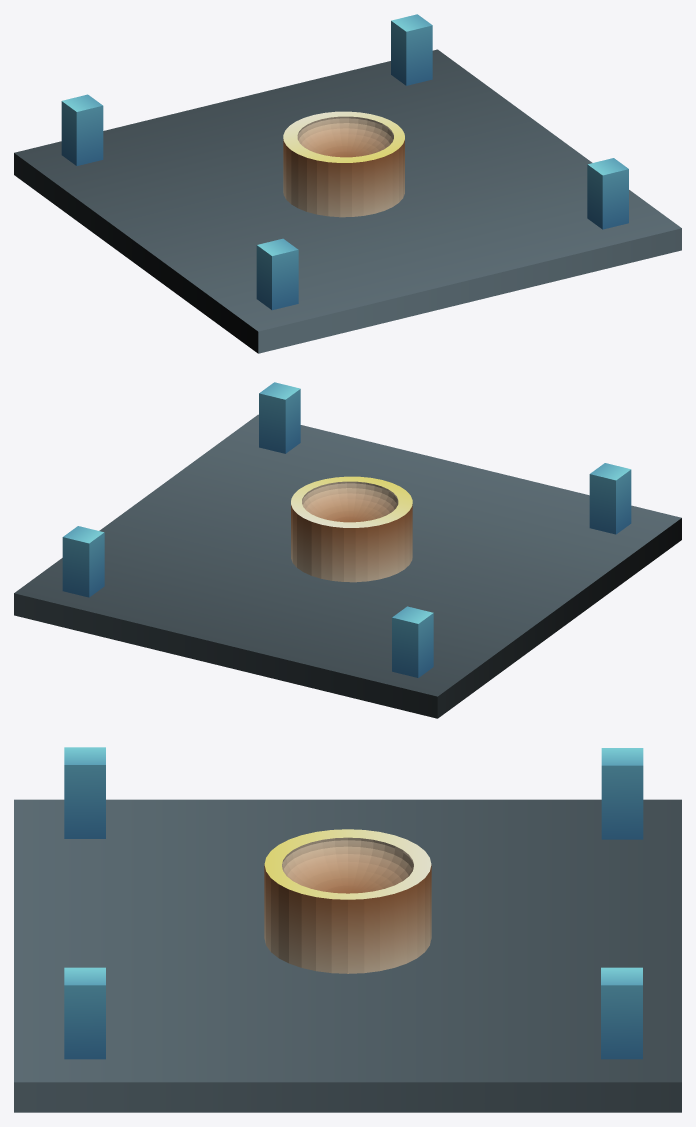
File: CaptureEventMesh.fbx
3 views of the same model, one above another, from view 1: azimuth 30°, elevation 25°; view 2: azimuth 150°, elevation 25°; view 3: azimuth 270°, elevation 25° (orthographic). The views are drawn at different scales.
Parts seen in each view (by area): view 1: Cube, Cylinder, Cube.002, Cube.001, Cube.004, Cube.003; view 2: Cube, Cylinder, Cube.001, Cube.004, Cube.002, Cube.003; view 3: Cube, Cylinder, Cube.002, Cube.003, Cube.004, Cube.001.
Boxes of the visible parts, <box> form: Cube: <box>14,49,681,353</box>; Cylinder: <box>283,111,404,217</box>; Cube.002: <box>61,94,103,165</box>; Cube.001: <box>256,238,298,310</box>; Cube.004: <box>391,14,432,85</box>; Cube.003: <box>587,158,628,229</box>; Cube: <box>14,414,681,718</box>; Cylinder: <box>291,476,412,582</box>; Cube.001: <box>589,463,631,534</box>; Cube.004: <box>62,526,104,597</box>; Cube.002: <box>392,606,433,677</box>; Cube.003: <box>259,382,300,453</box>; Cube: <box>14,799,681,1112</box>; Cylinder: <box>264,829,431,973</box>; Cube.002: <box>601,748,643,839</box>; Cube.003: <box>64,967,105,1059</box>; Cube.004: <box>601,967,642,1059</box>; Cube.001: <box>64,747,105,838</box>.
Bounding box in the file's own units: 801 × 138 × 800.
